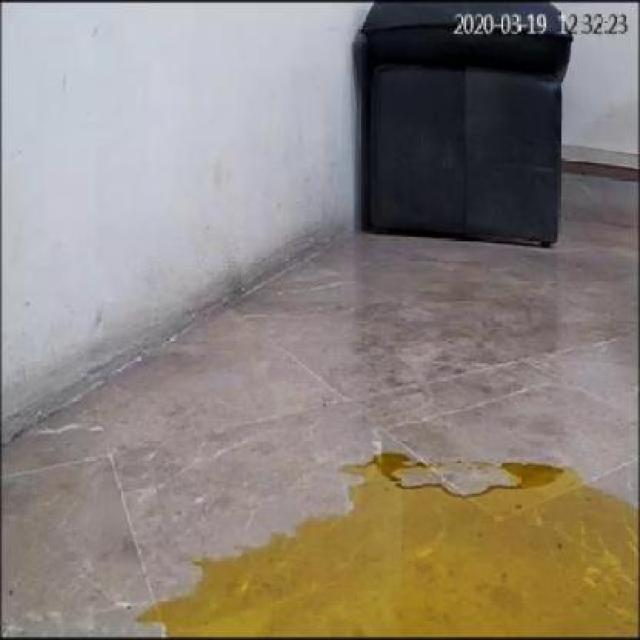spillage: (140, 450, 637, 639)
